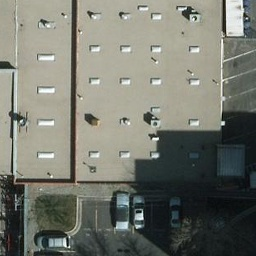car: (112, 193, 130, 233), (38, 228, 72, 247), (169, 198, 185, 228), (132, 198, 147, 228)
